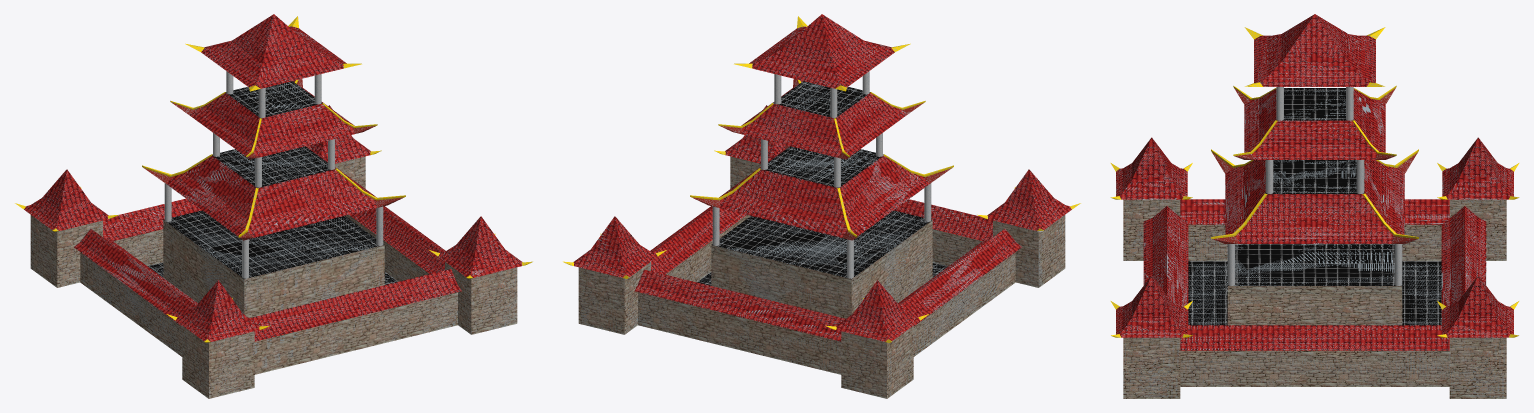
The model's file is samurai castle.dae.
3 renders of one model, left to right at view 1: azimuth 30°, elevation 25°; view 2: azimuth 150°, elevation 25°; view 3: azimuth 270°, elevation 25°, orthographic. The views are drawn at different scales.
Visible parts, largest first — view 1: SketchUp (×19); view 2: SketchUp (×19); view 3: SketchUp (×26).
Boxes of the visible parts, x1,y1,x2,y2 form: SketchUp (×19): (24, 14, 522, 398); SketchUp (×19): (573, 14, 1071, 398); SketchUp (×26): (1116, 14, 1513, 398).
Bounding box in the file's own units: 722 × 722 × 591.
